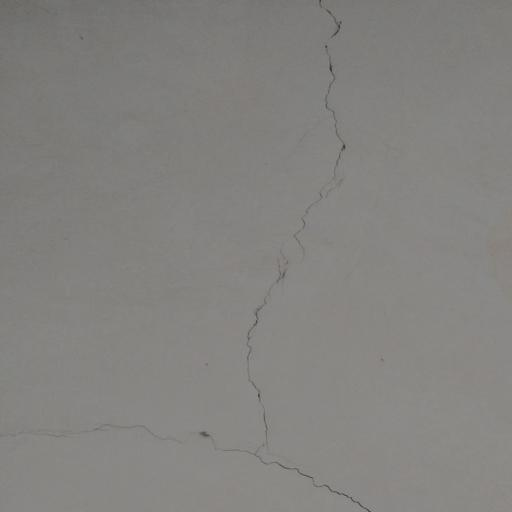minor_crack: (236, 0, 357, 448), (6, 411, 375, 512)
